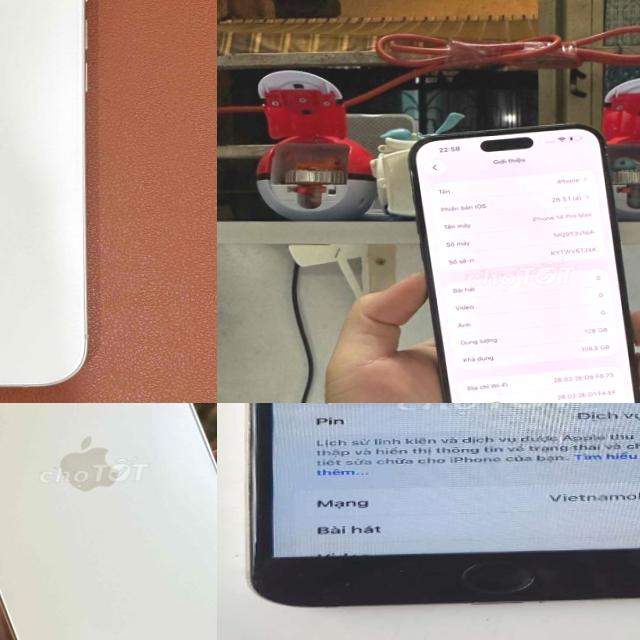gen_12_13: (0, 403, 217, 640)
gen_14: (401, 126, 640, 403)
gen_15: (0, 0, 97, 403)
gen_6: (224, 403, 640, 616)
